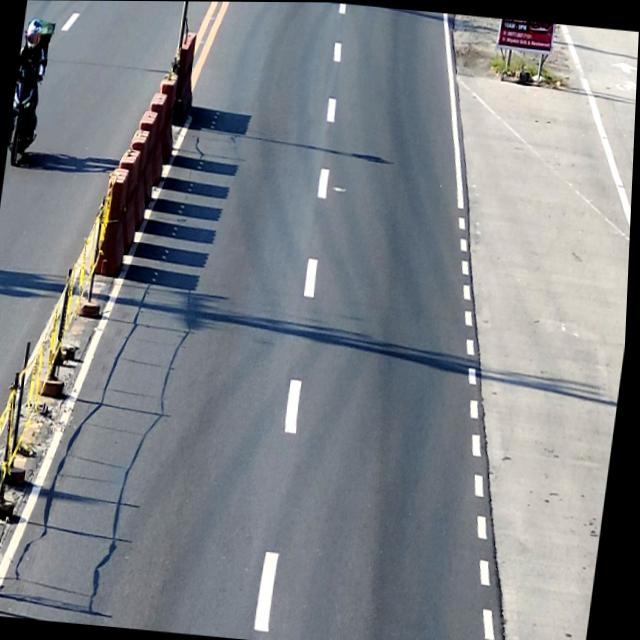Motorcycle: (7, 63, 44, 163)
